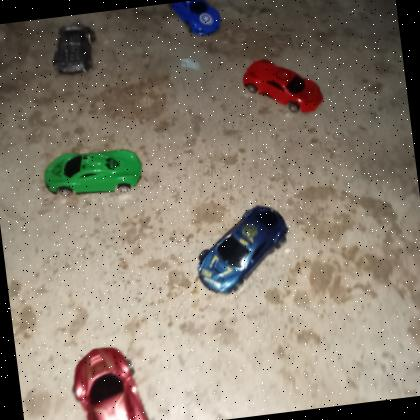Car: (188, 199, 296, 298), (40, 142, 146, 204), (241, 51, 328, 122)
